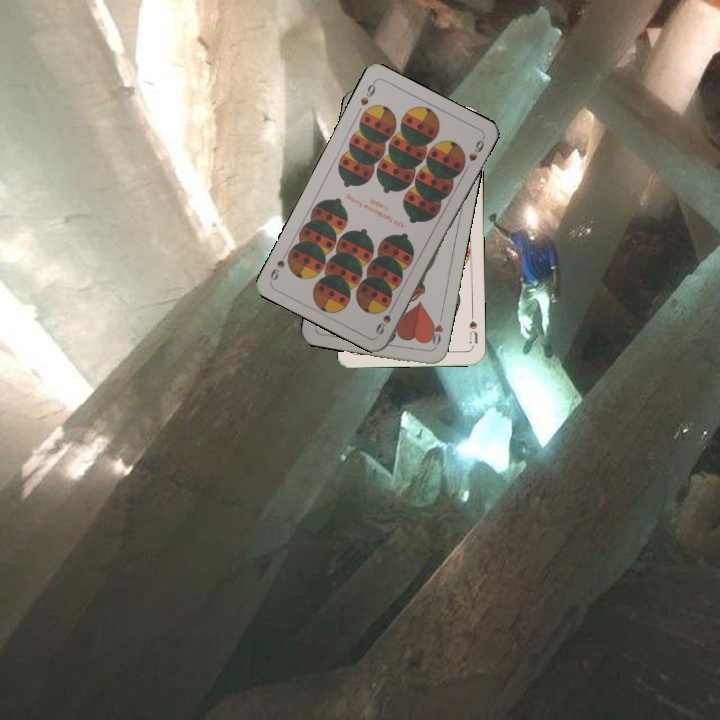HO: (425, 311, 446, 351)
S9: (372, 300, 398, 338), (356, 78, 378, 108)
SU: (465, 309, 480, 346)
